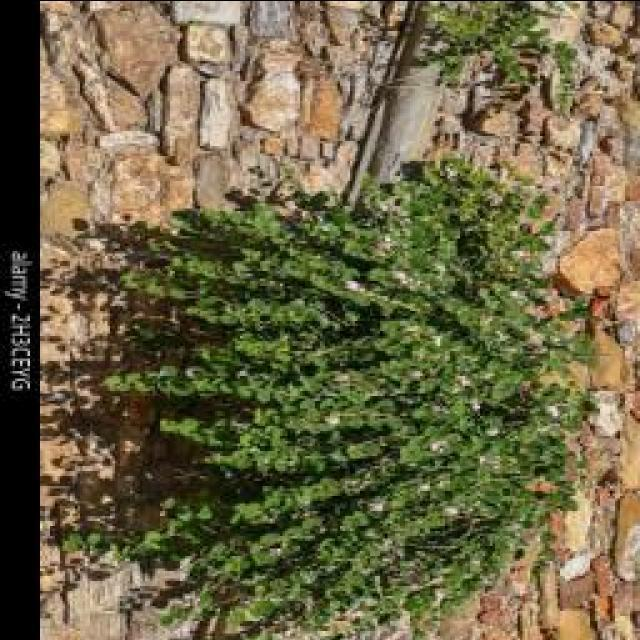crack: (36, 14, 189, 636), (88, 3, 182, 99), (77, 60, 155, 140), (584, 147, 633, 218), (248, 37, 314, 88), (40, 69, 85, 138), (182, 22, 238, 69), (320, 4, 369, 56), (235, 11, 264, 91), (87, 161, 119, 228), (172, 1, 248, 29), (362, 37, 400, 92), (248, 2, 296, 42), (338, 63, 371, 119), (298, 13, 337, 60), (38, 135, 70, 188), (586, 19, 626, 48), (374, 76, 445, 91), (585, 183, 613, 219), (608, 3, 636, 34), (60, 587, 72, 628)
dampness: (132, 5, 373, 206), (49, 2, 221, 226), (41, 529, 258, 640), (552, 144, 640, 285), (39, 246, 119, 391), (554, 6, 640, 135)
vegetation: (64, 150, 600, 638), (118, 203, 386, 357), (404, 281, 575, 405), (411, 155, 560, 280), (414, 3, 580, 108), (479, 85, 579, 173), (41, 6, 87, 89), (39, 180, 96, 241), (39, 426, 85, 491), (450, 126, 510, 172), (536, 6, 584, 51), (70, 466, 112, 515)
